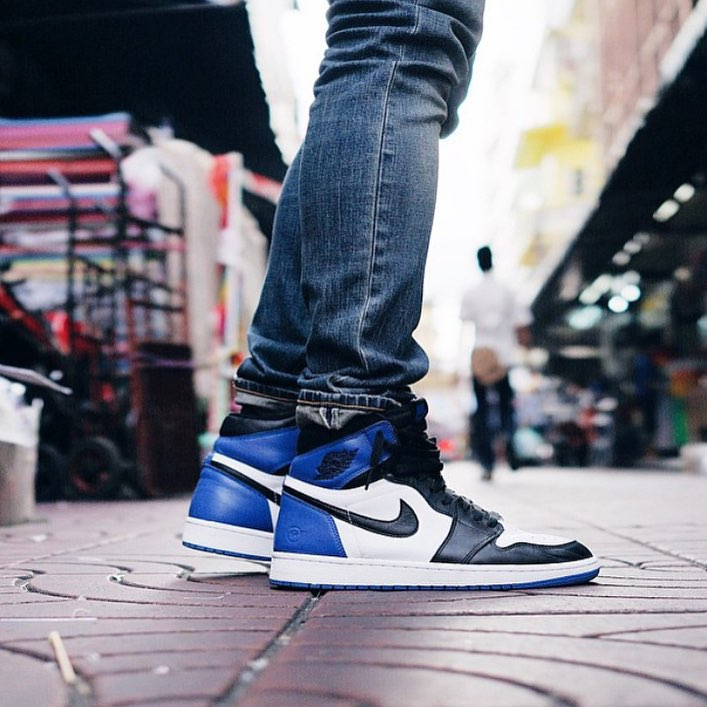sneaker: (255, 396, 613, 606), (166, 367, 311, 597)
